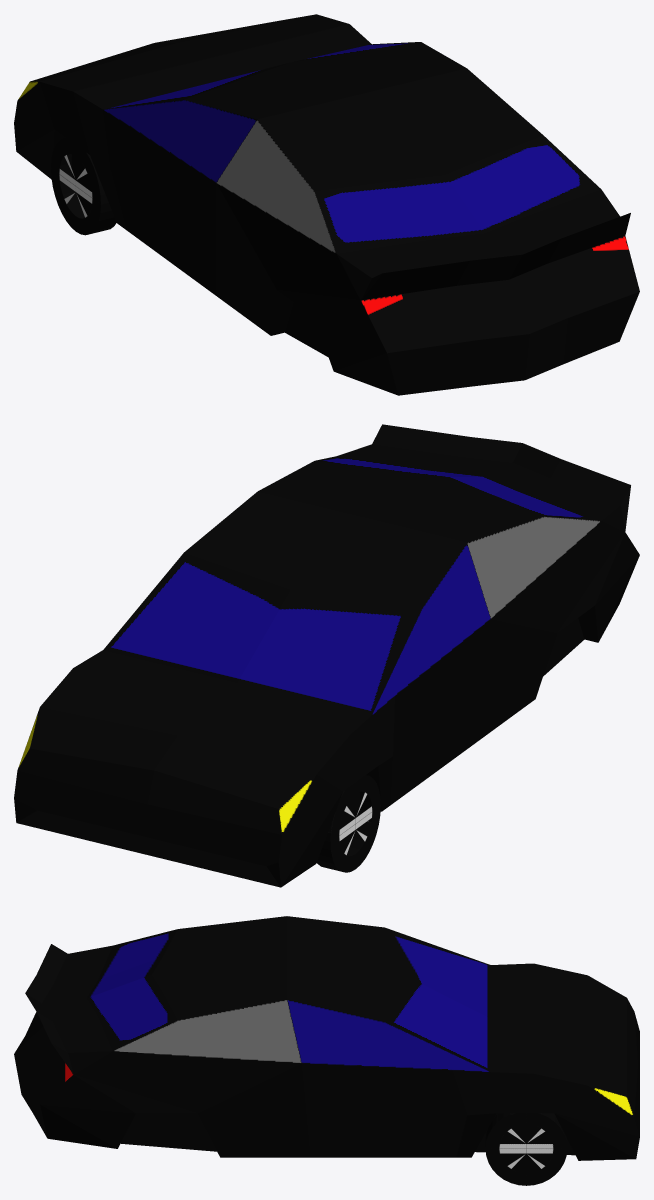
The model's file is 04_ciu.fbx.
The picture shows the model from 3 angles, top to bottom: view 1: azimuth 30°, elevation 25°; view 2: azimuth 150°, elevation 25°; view 3: azimuth 270°, elevation 25°; orthographic projection. The views are drawn at different scales.
Parts seen in each view (by area): view 1: body, wheel_l; view 2: body, wheel_l; view 3: body, wheel_l.001.
Part boxes in pixels (x1,y1,x2,y2): body: (14, 14, 639, 395); wheel_l: (51, 137, 116, 235); body: (14, 424, 639, 887); wheel_l: (317, 775, 380, 872); body: (14, 916, 639, 1160); wheel_l.001: (485, 1113, 567, 1185).
Bounding box in the file's own units: 146 × 102 × 336.
Materials: 2 (2 with a texture image).
